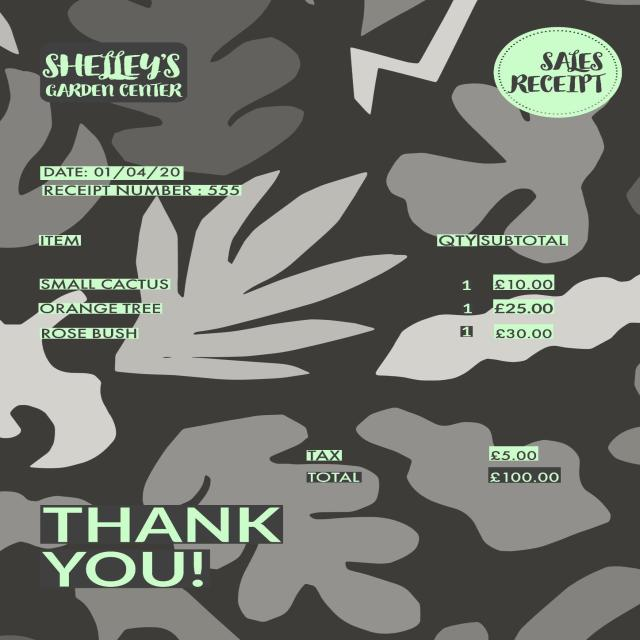paragraph: (27, 498, 290, 594), (292, 441, 575, 492), (36, 46, 189, 105), (42, 164, 251, 200), (504, 36, 612, 98)
table: (31, 220, 586, 354)
